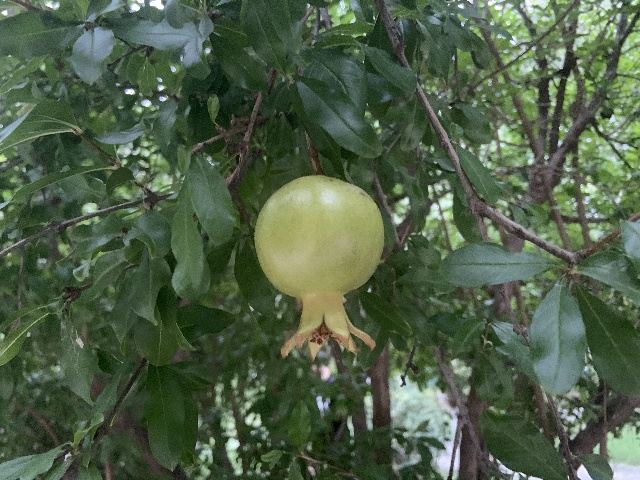mid-growth: (253, 174, 384, 362)
